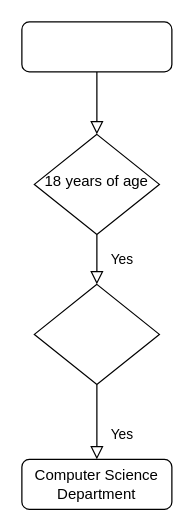
This 194x531 diagram has some shape labels left out. Each missing label, with the centre of its shape:
"A student in university" goes at point 96,333.
"Akinrinade Moses Imisioluwa" goes at point 96,46.
